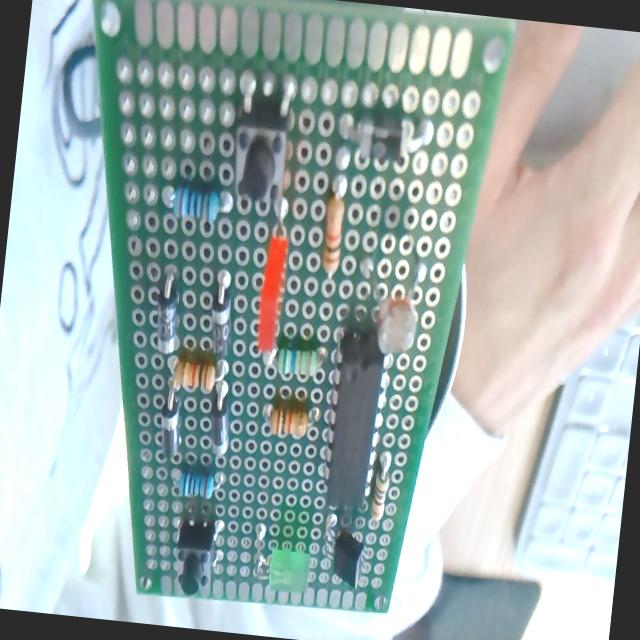IC: (318, 316, 398, 510)
cds: (361, 265, 424, 356)
diode: (340, 106, 426, 168), (148, 272, 183, 356), (206, 271, 236, 360), (206, 384, 234, 456), (156, 392, 184, 462)
led: (251, 174, 297, 353), (240, 524, 314, 604)
resistor: (163, 178, 223, 226), (319, 190, 346, 275), (268, 398, 311, 441), (274, 344, 322, 379), (172, 355, 215, 392), (368, 456, 391, 520), (178, 466, 215, 499)
switch: (232, 102, 292, 214), (172, 515, 220, 599)
transistor: (316, 511, 372, 592)
